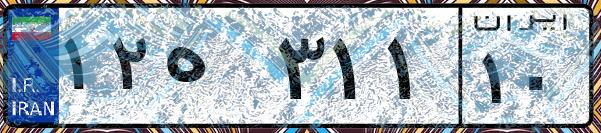0: (525, 38, 570, 115)
1: (385, 28, 445, 110), (330, 28, 385, 110), (57, 26, 110, 100), (475, 38, 525, 113)
2: (110, 28, 158, 98)
3: (270, 28, 330, 110)
ه: (158, 20, 270, 120)
